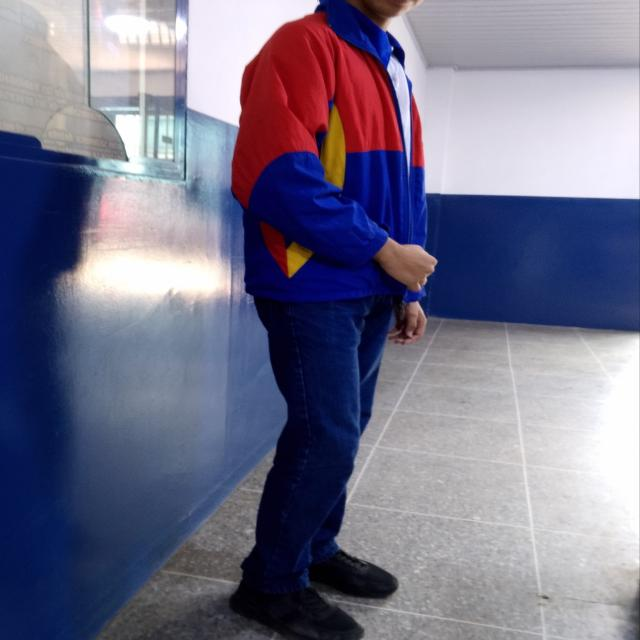chaqueta_unefa: (229, 0, 429, 308)
pantalon_oscuro: (239, 296, 399, 600)
